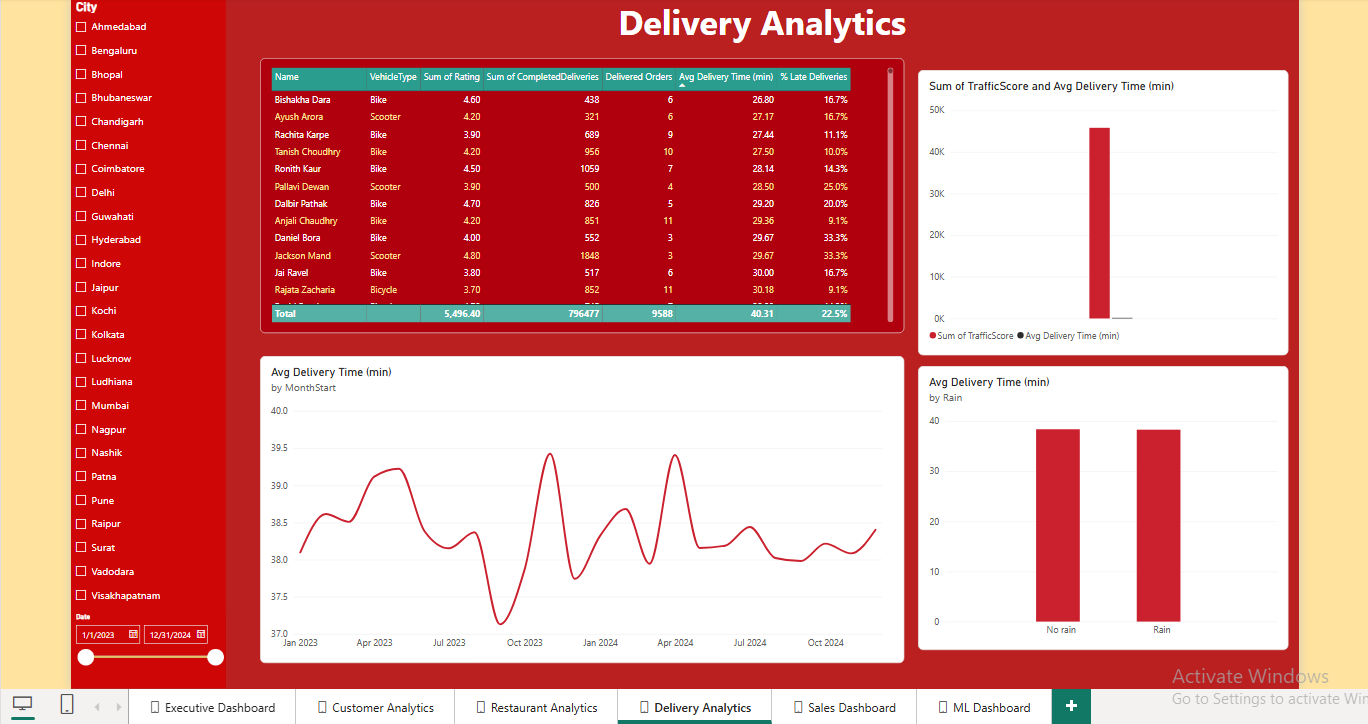

The page's visual inventory and layout, read from the dashboard file:
{"tool":"powerbi","page":{"name":"Delivery Analytics","canvas":[1920,1080],"ordinal":3},"visuals":[{"type":"slicer","fields":{"Values":["Cities.City"]},"box":[0,2.2,242.4,961.9],"z":0},{"type":"slicer","fields":{"Values":["Date.Date"]},"box":[0,961.9,242.4,116.4],"z":1000},{"type":"textbox","box":[241.9,0,1675.9,94.6],"z":1001},{"type":"tableEx","fields":{"Values":["DeliveryPartners.Name","DeliveryPartners.VehicleType","Sum(DeliveryPartners.Rating)","Sum(DeliveryPartners.CompletedDeliveries)","_Measures.Delivered Orders","_Measures.Avg Delivery Time (min)","_Measures.% Late Deliveries"]},"box":[295.1,94.1,1007,429.7],"z":1002},{"type":"lineChart","fields":{"Category":["Date.MonthStart"],"Y":["_Measures.Avg Delivery Time (min)"]},"box":[295.1,558.8,1007,479.5],"z":1003},{"type":"clusteredColumnChart","fields":{"Y":["Sum(Orders.TrafficScore)","_Measures.Avg Delivery Time (min)"]},"box":[1324.3,112.5,579.1,446.3],"z":1004},{"type":"clusteredColumnChart","fields":{"Category":["Orders.Rain"],"Y":["_Measures.Avg Delivery Time (min)"]},"box":[1324.3,575.4,579.1,444.5],"z":1005}]}

Visuals, with their boxes on the page's 1920x1080 design canvas (x1, y1, x2, y2). These are canvas units, not pixel positions in the 1368x724 screenshot, which may show the page scaled, cropped or inside an application window:
slicer - Cities.City: 0/2/242/964
slicer - Date.Date: 0/962/242/1078
textbox: 242/0/1918/95
tableEx - DeliveryPartners.Name x DeliveryPartners.VehicleType: 295/94/1302/524
lineChart - Date.MonthStart x _Measures.Avg Delivery Time (min): 295/559/1302/1038
clusteredColumnChart - Sum(Orders.TrafficScore) x _Measures.Avg Delivery Time (min): 1324/112/1903/559
clusteredColumnChart - Orders.Rain x _Measures.Avg Delivery Time (min): 1324/575/1903/1020
